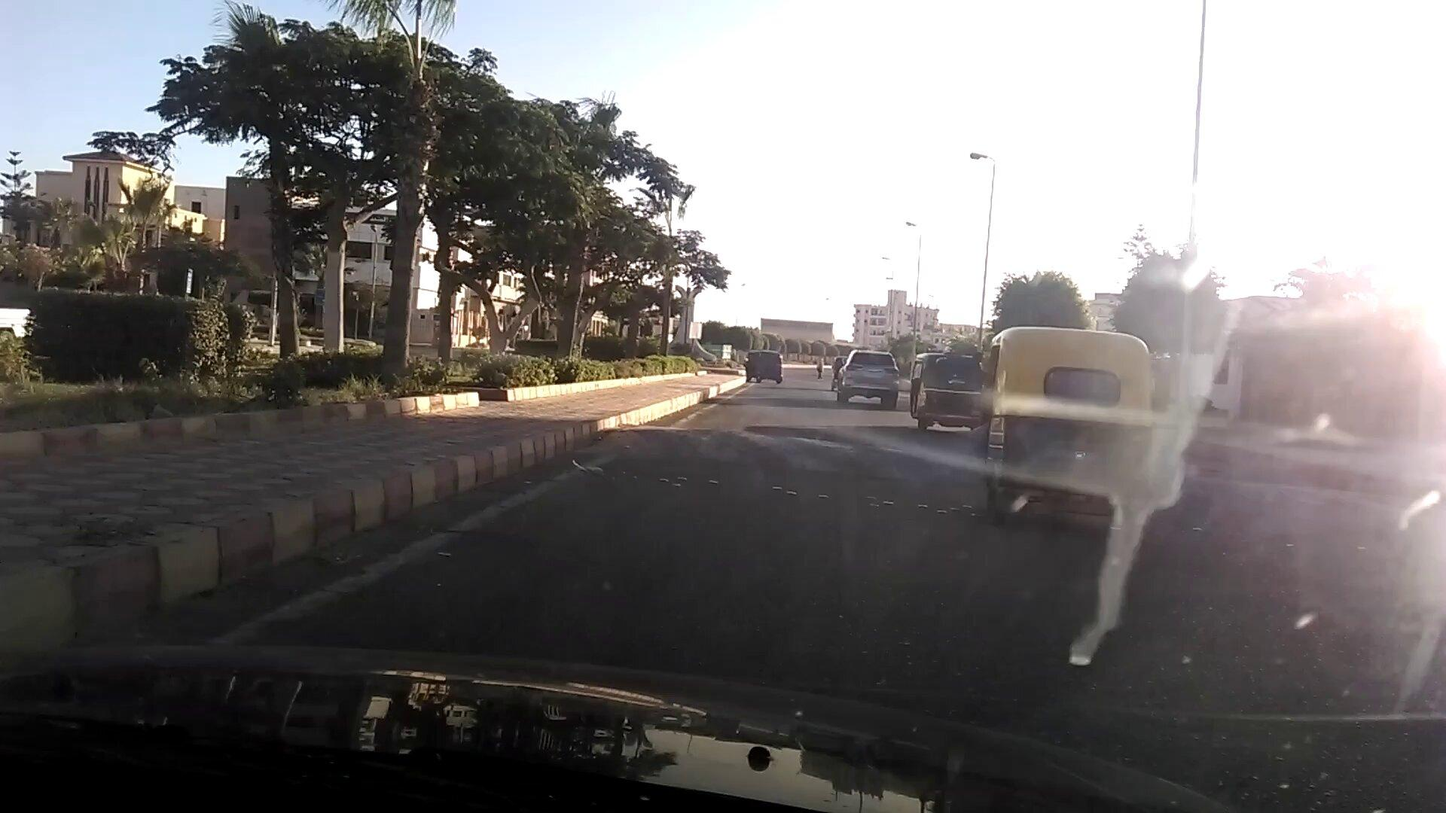Bump: (577, 419, 1445, 536)
